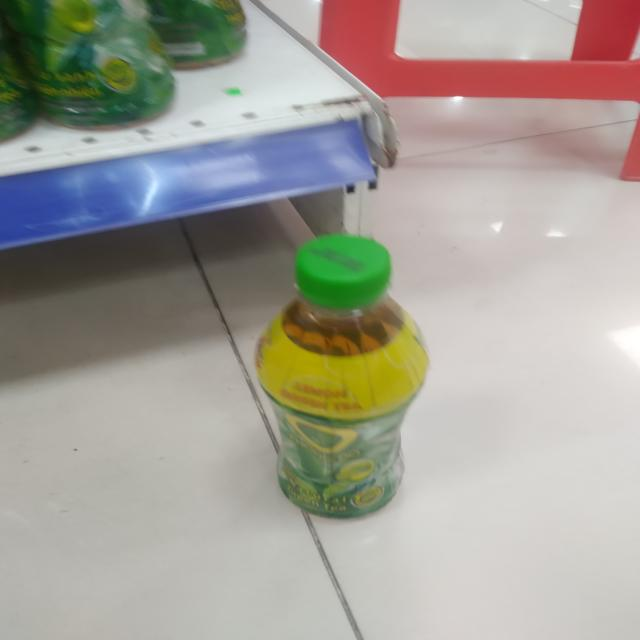tra xanh khong do: (245, 223, 433, 532)
